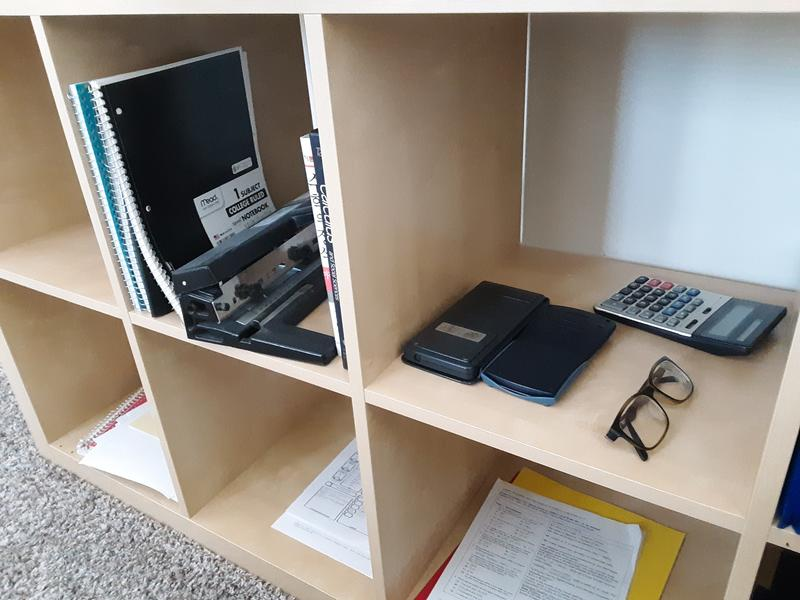glasses: (604, 354, 695, 463)
